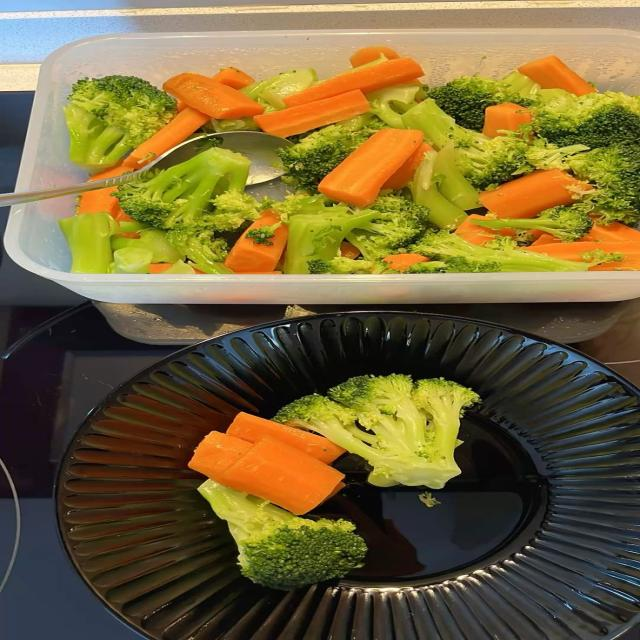broccoli: (274, 375, 479, 488), (199, 480, 366, 590), (403, 99, 586, 190), (403, 99, 533, 190), (114, 148, 250, 228), (65, 76, 176, 170), (410, 231, 619, 272), (276, 119, 386, 191), (456, 133, 587, 190), (413, 378, 480, 485), (284, 202, 376, 274), (429, 72, 539, 131), (533, 90, 639, 148), (567, 143, 639, 226), (347, 195, 429, 260), (475, 202, 593, 241), (410, 151, 466, 228), (456, 134, 533, 190), (403, 98, 478, 149), (59, 212, 117, 273), (240, 68, 317, 112), (434, 142, 479, 210), (167, 226, 231, 273), (112, 229, 184, 263), (367, 83, 420, 128), (207, 189, 260, 232), (527, 139, 588, 170), (269, 193, 329, 221), (405, 256, 500, 273), (307, 257, 375, 274), (109, 248, 153, 274), (246, 222, 281, 245)
carrot: (220, 439, 343, 515), (318, 129, 422, 207), (285, 58, 423, 107), (227, 412, 345, 464), (253, 90, 368, 137), (480, 169, 590, 218), (123, 107, 209, 169), (164, 73, 263, 118), (225, 210, 288, 273), (522, 240, 639, 270), (188, 431, 250, 480), (518, 56, 595, 95), (77, 186, 132, 222), (455, 214, 513, 245), (483, 103, 531, 137), (580, 223, 639, 241), (350, 46, 399, 67), (211, 67, 253, 89), (90, 161, 132, 182), (383, 253, 428, 272), (151, 263, 172, 273)
